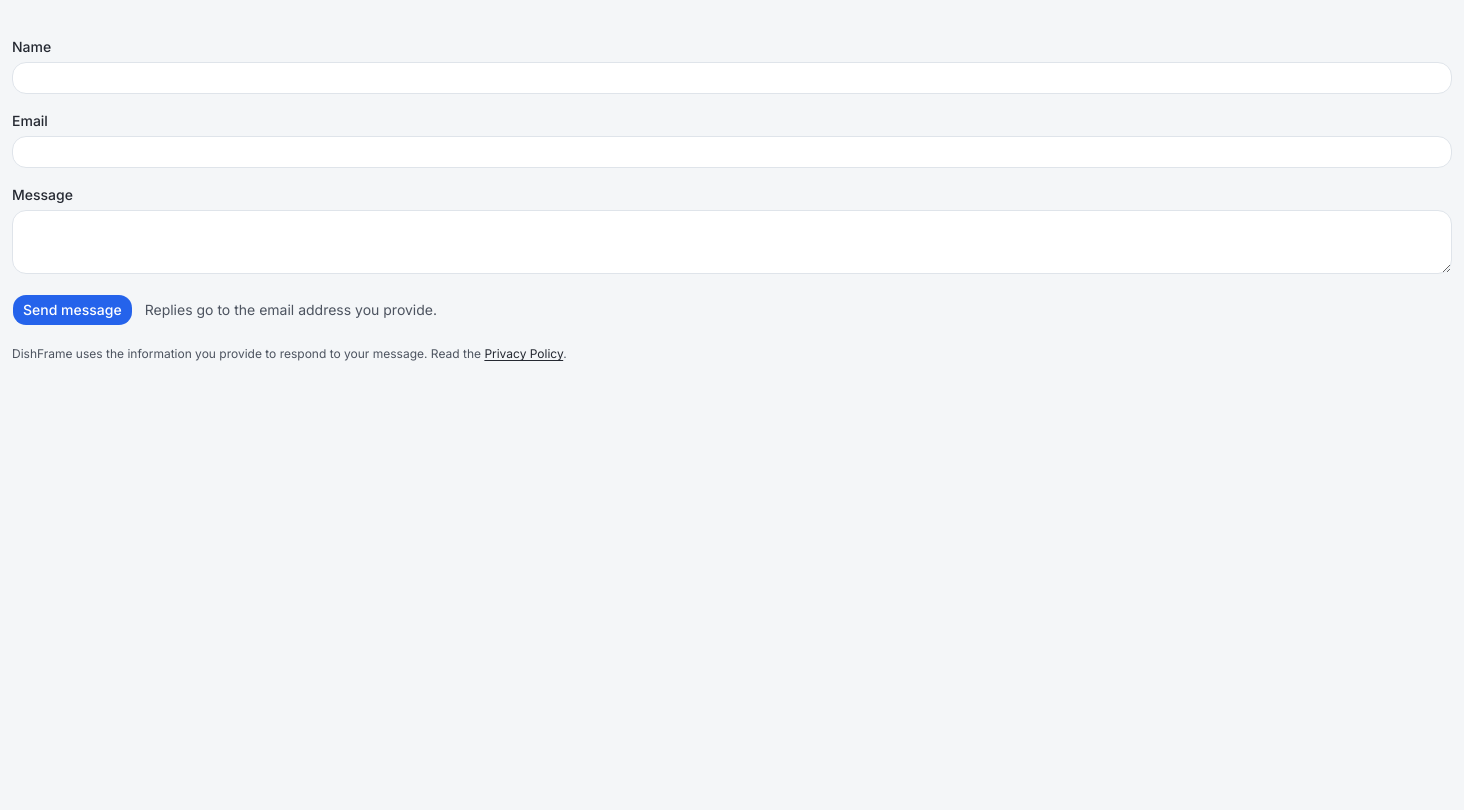
Test: ContactForm › shows an error toast for a transient/server submission failure
The width and height of the screenshot is (1464, 810).
Type "Ada Lovelace" into the field labelled "Name" at [732, 78], box [12,62,1452,94]
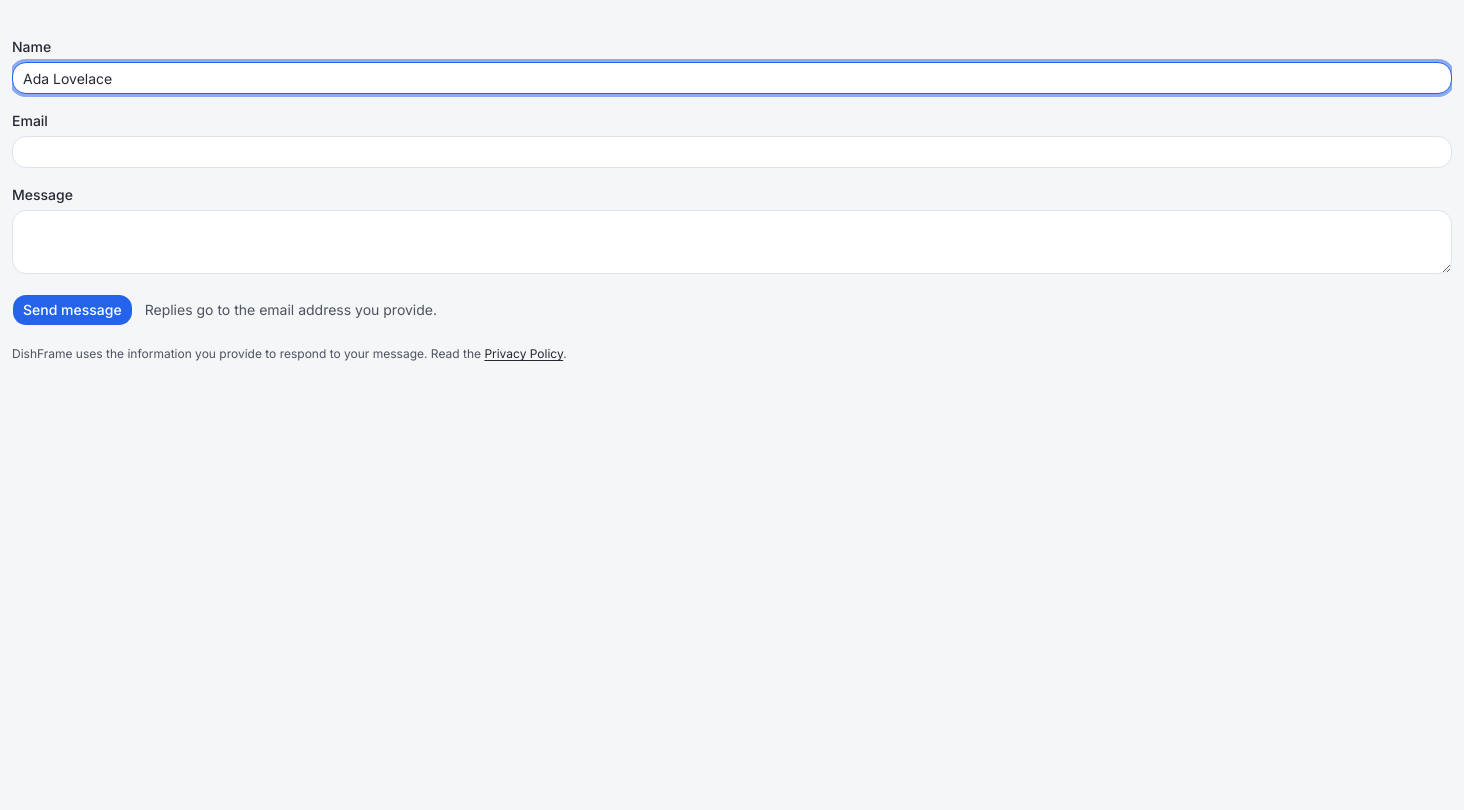
Type "ada@example.com" into the field labelled "Email" at [732, 152], box [12,136,1452,168]
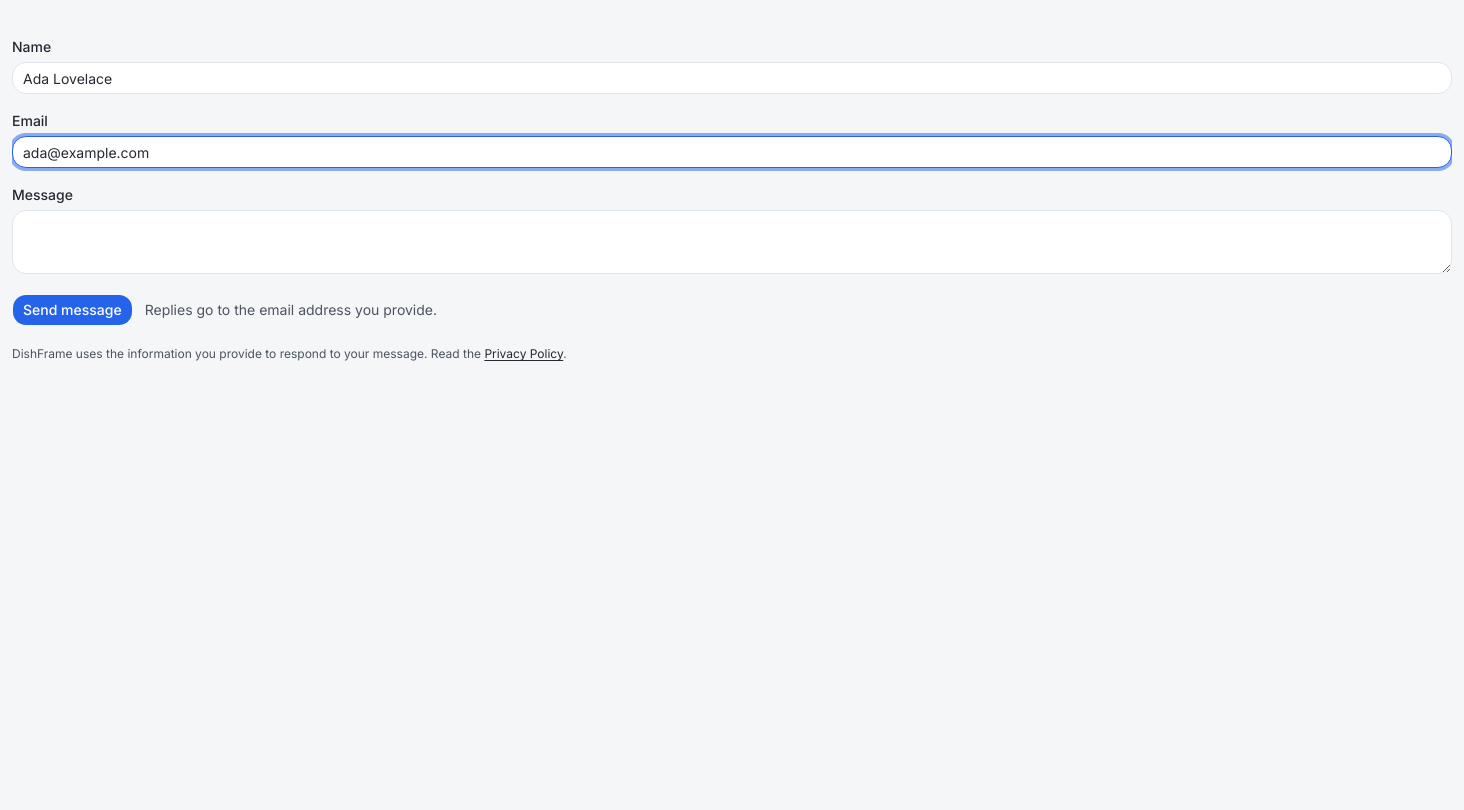
Type "Loving DishFrame so far!" into the text box labelled "Message" at [732, 242], box [12,210,1452,274]
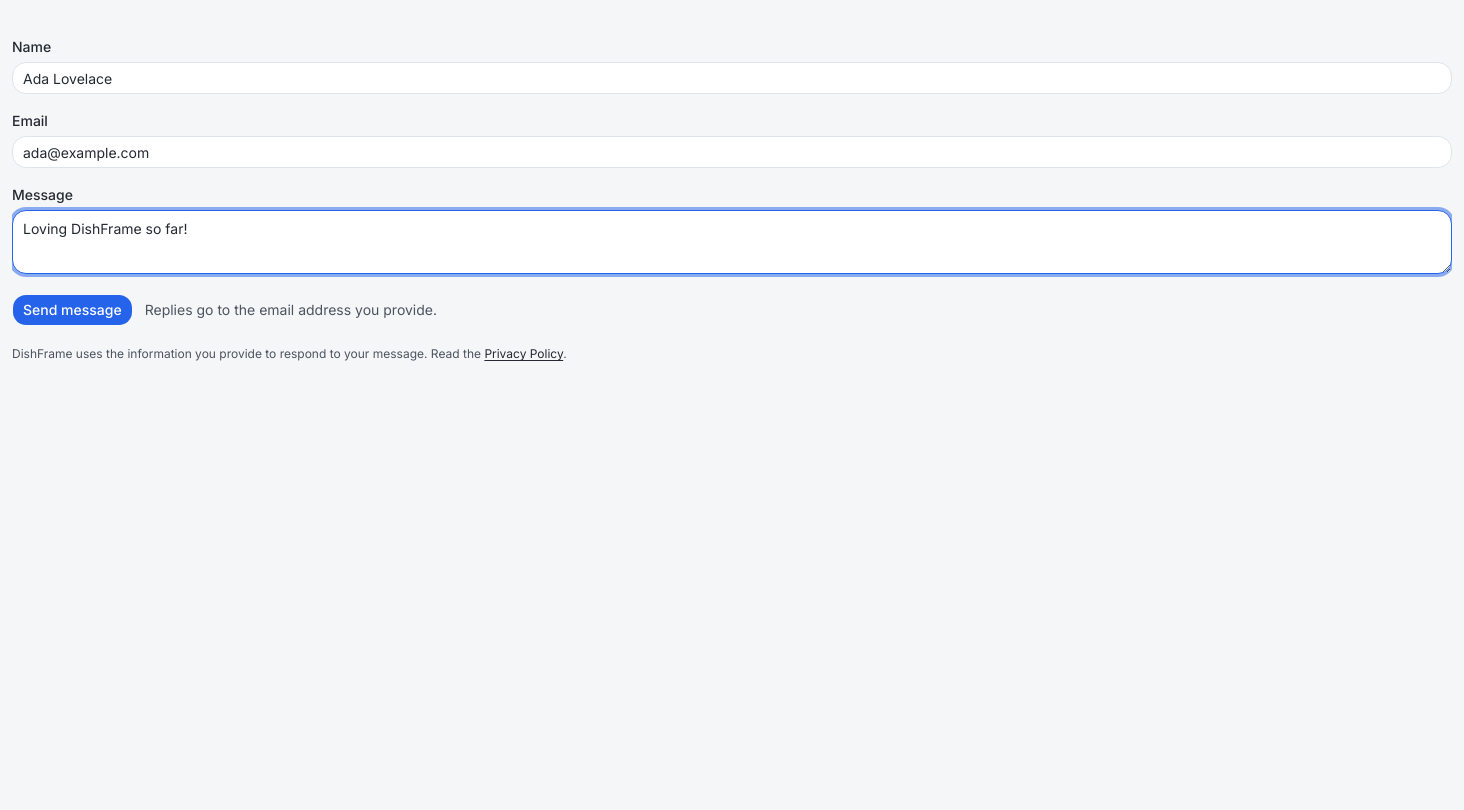
Click the button "Send message" at [72, 310], box [12,294,133,326]
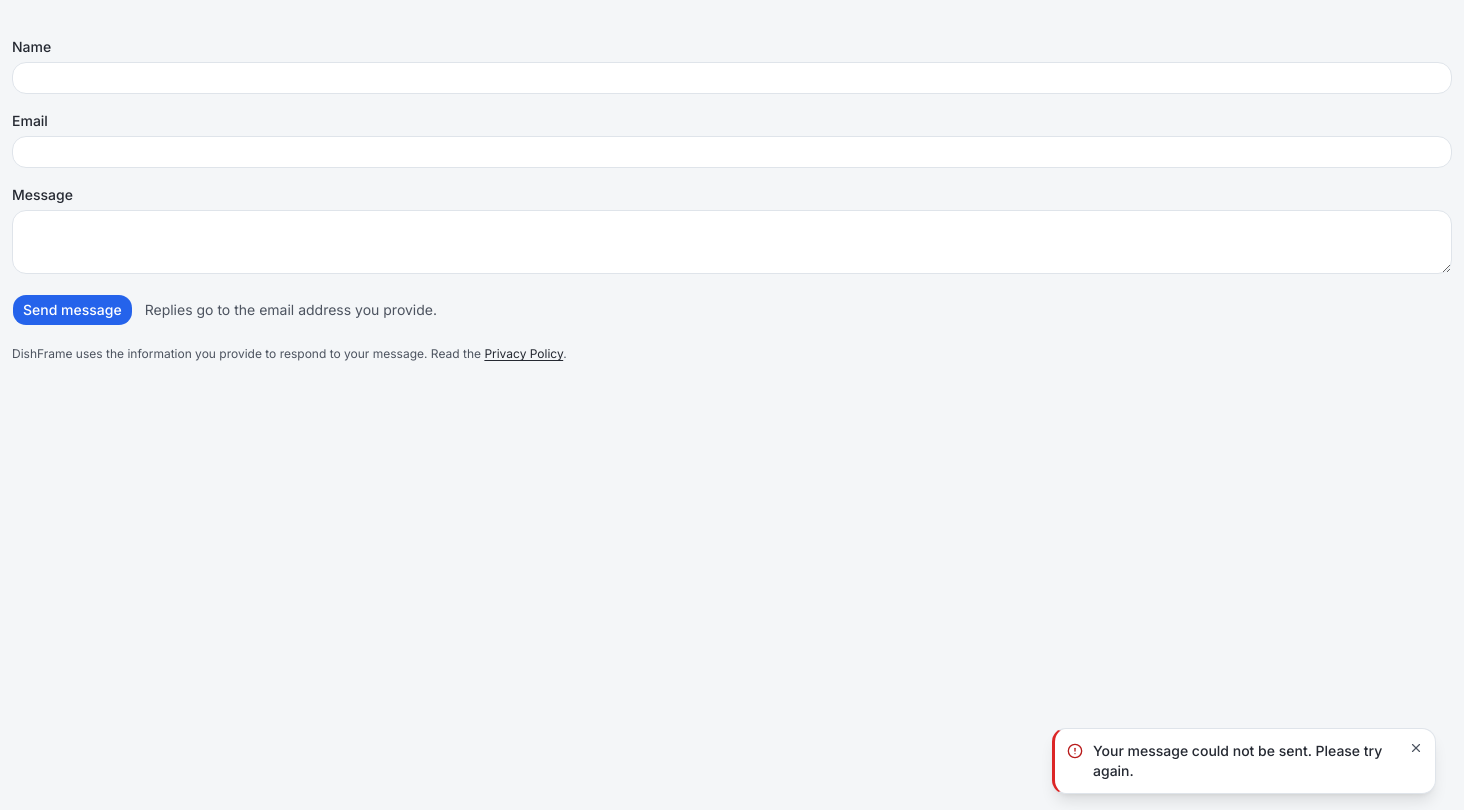
expect the text "Your message could not be sent. Please try again." is shown: met, box [1093,741,1399,781]
